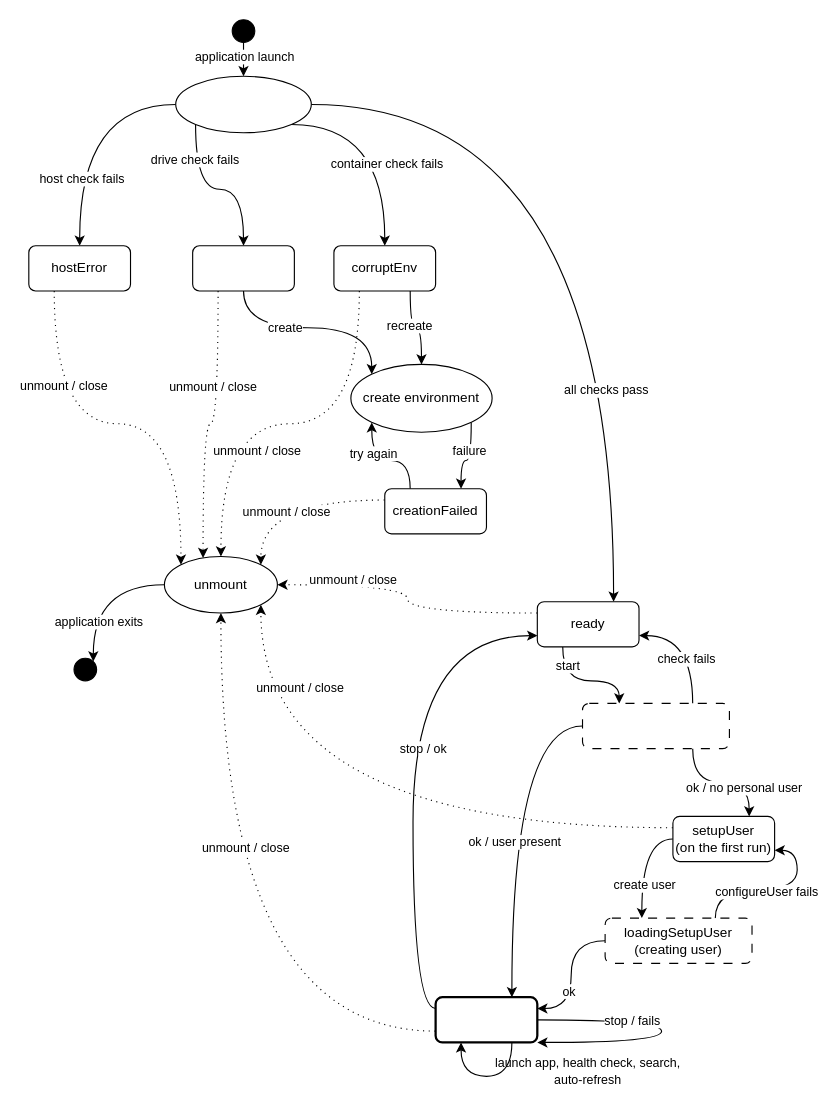
Image size: 837x1107. Some labels were removed from this diagram. The centre of each missing label's shape, as x and y in pixels:
Launcher: (486,1019)
missingEnv: (243,268)
startingUp (container booting): (655,725)
Startup checks: (243,104)
